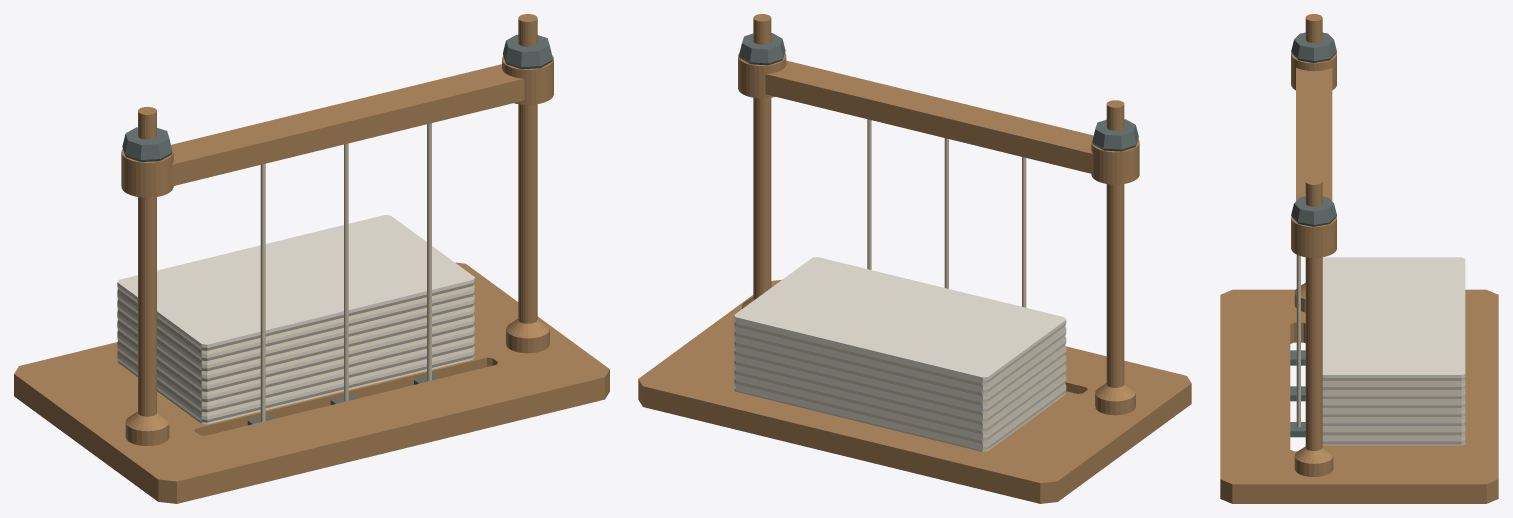
3 views of the same model, side by side, from view 1: azimuth 30°, elevation 25°; view 2: azimuth 150°, elevation 25°; view 3: azimuth 270°, elevation 25° (orthographic). The views are drawn at different scales.
Parts seen in each view (by area): view 1: WholeBlankLayeredTextBlock, WholeLongSlotGroundWorkingPlatform, WholeUpperCrossheadRail, RightWholeTallShoulderedPost, LeftWholeTallShoulderedPost, LeftWholeBoredCrossheadSleeve, WholeVerticalSewingSupportCord0, RightWholeBoredCrossheadSleeve, WholeVerticalSewingSupportCord1, WholeVerticalSewingSupportCord2, RightWholeFixedLockCap, LeftWholeFixedLockCap; view 2: WholeBlankLayeredTextBlock, WholeLongSlotGroundWorkingPlatform, WholeUpperCrossheadRail, LeftWholeTallShoulderedPost, RightWholeTallShoulderedPost, LeftWholeBoredCrossheadSleeve, RightWholeBoredCrossheadSleeve, LeftWholeFixedLockCap, RightWholeFixedLockCap, WholeVerticalSewingSupportCord0, WholeVerticalSewingSupportCord1, WholeVerticalSewingSupportCord2; view 3: WholeLongSlotGroundWorkingPlatform, WholeBlankLayeredTextBlock, RightWholeTallShoulderedPost, WholeUpperCrossheadRail, RightWholeBoredCrossheadSleeve, RightWholeFixedLockCap, LeftWholeFixedLockCap, WholeVerticalSewingSupportCord2, LeftWholeTallShoulderedPost, LeftWholeBoredCrossheadSleeve.
Boxes of the visible parts, left/top/right/bottom form: WholeBlankLayeredTextBlock: left=117, top=215, right=474, bottom=424; WholeLongSlotGroundWorkingPlatform: left=14, top=262, right=609, bottom=503; WholeUpperCrossheadRail: left=171, top=64, right=524, bottom=186; RightWholeTallShoulderedPost: left=506, top=14, right=549, bottom=353; LeftWholeTallShoulderedPost: left=125, top=107, right=169, bottom=445; LeftWholeBoredCrossheadSleeve: left=121, top=148, right=173, bottom=197; WholeVerticalSewingSupportCord0: left=260, top=163, right=265, bottom=421; RightWholeBoredCrossheadSleeve: left=502, top=55, right=553, bottom=104; WholeVerticalSewingSupportCord1: left=344, top=143, right=348, bottom=401; WholeVerticalSewingSupportCord2: left=427, top=123, right=431, bottom=381; RightWholeFixedLockCap: left=503, top=34, right=552, bottom=69; LeftWholeFixedLockCap: left=122, top=127, right=172, bottom=161; WholeBlankLayeredTextBlock: left=734, top=257, right=1066, bottom=451; WholeLongSlotGroundWorkingPlatform: left=638, top=280, right=1191, bottom=503; WholeUpperCrossheadRail: left=765, top=60, right=1093, bottom=173; LeftWholeTallShoulderedPost: left=1095, top=100, right=1135, bottom=415; RightWholeTallShoulderedPost: left=742, top=14, right=771, bottom=308; LeftWholeBoredCrossheadSleeve: left=1091, top=139, right=1139, bottom=184; RightWholeBoredCrossheadSleeve: left=738, top=52, right=786, bottom=98; LeftWholeFixedLockCap: left=1092, top=119, right=1138, bottom=151; RightWholeFixedLockCap: left=739, top=33, right=785, bottom=65; WholeVerticalSewingSupportCord0: left=1022, top=157, right=1026, bottom=307; WholeVerticalSewingSupportCord1: left=944, top=138, right=948, bottom=288; WholeVerticalSewingSupportCord2: left=867, top=119, right=871, bottom=269; WholeLongSlotGroundWorkingPlatform: left=1220, top=289, right=1498, bottom=503; WholeBlankLayeredTextBlock: left=1322, top=257, right=1465, bottom=445; RightWholeTallShoulderedPost: left=1294, top=177, right=1333, bottom=476; WholeUpperCrossheadRail: left=1296, top=67, right=1332, bottom=200; RightWholeBoredCrossheadSleeve: left=1291, top=216, right=1336, bottom=257; RightWholeFixedLockCap: left=1291, top=196, right=1336, bottom=226; LeftWholeFixedLockCap: left=1291, top=32, right=1336, bottom=62; WholeVerticalSewingSupportCord2: left=1296, top=255, right=1300, bottom=427; LeftWholeTallShoulderedPost: left=1294, top=14, right=1322, bottom=312; LeftWholeBoredCrossheadSleeve: left=1291, top=53, right=1336, bottom=90.
Size of the model in its own units: 0.76 by 0.56 by 0.46.
